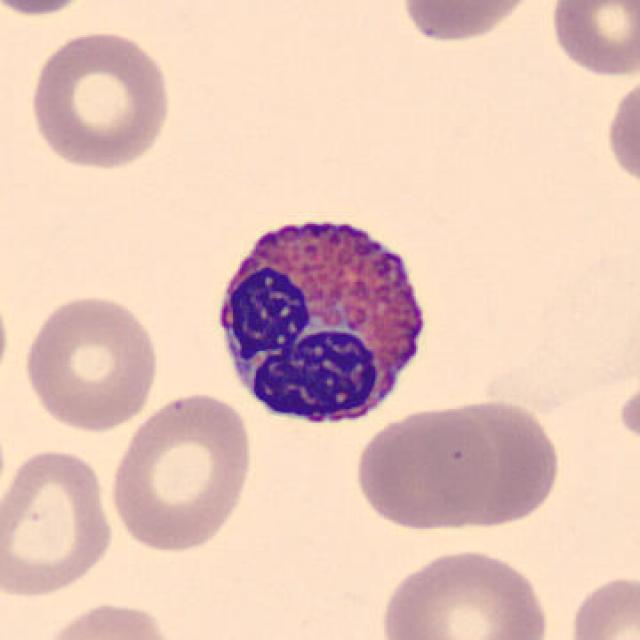Eosinophil: (203, 196, 441, 440)
RBC: (105, 388, 258, 557), (25, 24, 176, 174), (18, 289, 162, 434), (418, 393, 565, 533), (0, 443, 119, 603), (350, 404, 496, 534), (375, 543, 555, 640), (546, 0, 640, 81), (395, 0, 544, 46), (33, 597, 181, 640), (564, 569, 638, 640), (602, 70, 640, 197), (0, 0, 105, 18), (0, 278, 12, 405)
